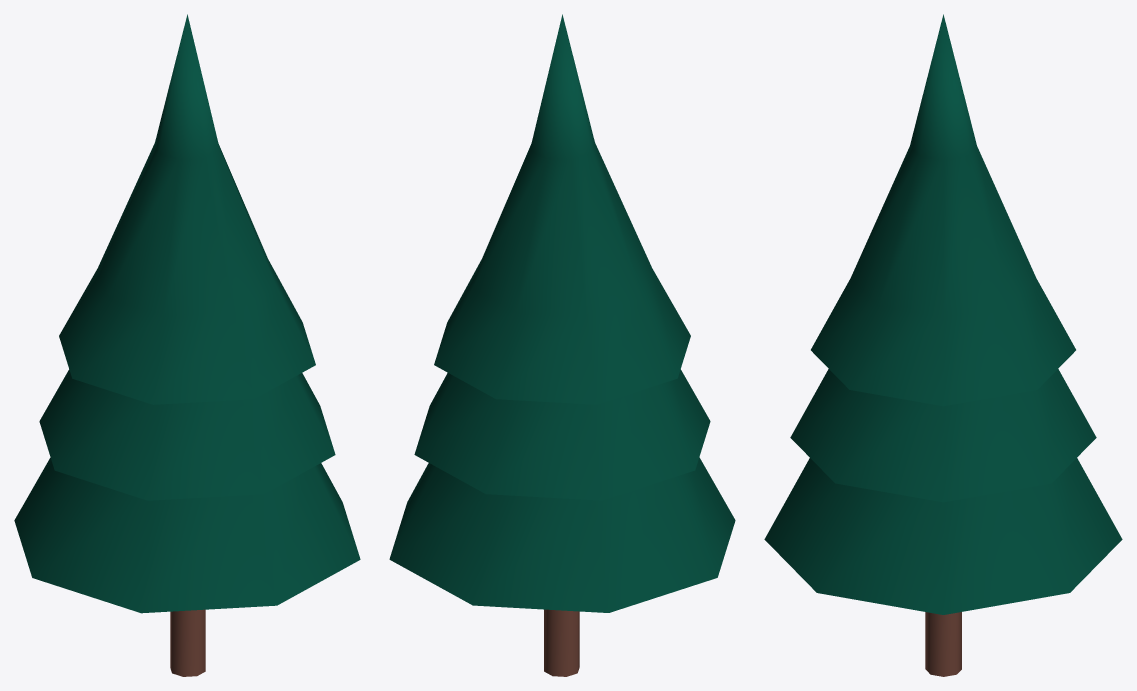
The model's file is firtree_47_world_ap_0_lev1.glb.
The picture shows the model from 3 angles, left to right: view 1: azimuth 30°, elevation 25°; view 2: azimuth 150°, elevation 25°; view 3: azimuth 270°, elevation 25°; orthographic projection.
Visible parts, largest first — view 1: firtree_47_world_ap_0_lev1; view 2: firtree_47_world_ap_0_lev1; view 3: firtree_47_world_ap_0_lev1.
Part boxes in pixels (x1,y1,x2,y2): firtree_47_world_ap_0_lev1: (14,14,360,676); firtree_47_world_ap_0_lev1: (389,14,735,676); firtree_47_world_ap_0_lev1: (764,14,1122,676).
Size of the model in its own units: 0.9337 by 1.88 by 0.9337.
1 material, 1 textured.
